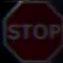Stop: (6, 7, 60, 53)
